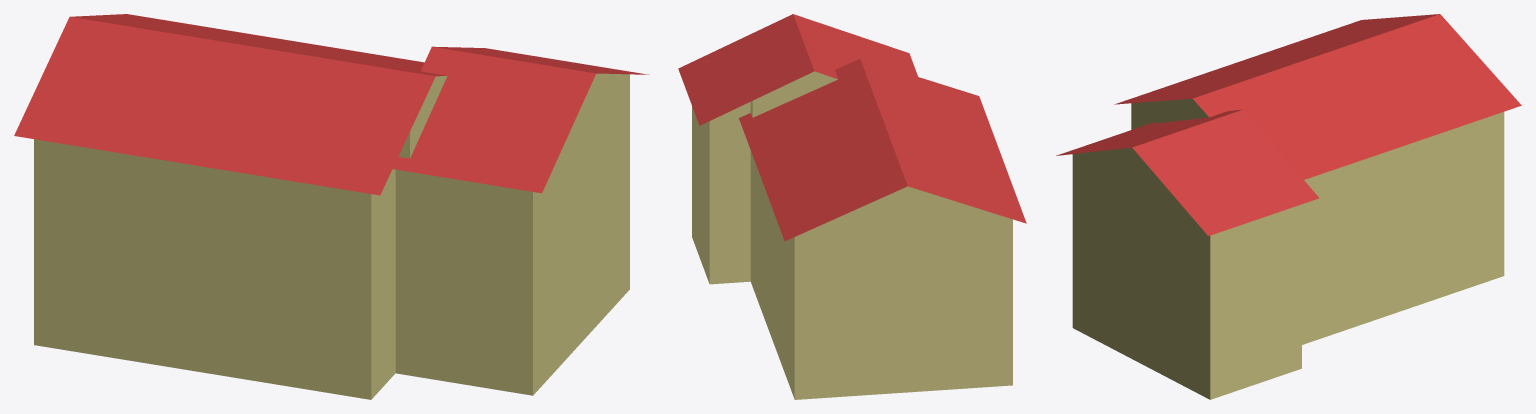
The picture shows the model from 3 angles, left to right: view 1: azimuth 30°, elevation 25°; view 2: azimuth 150°, elevation 25°; view 3: azimuth 270°, elevation 25°; orthographic projection. The views are drawn at different scales.
Size of the model in its own units: 20.11 by 18.5 by 9.62.
